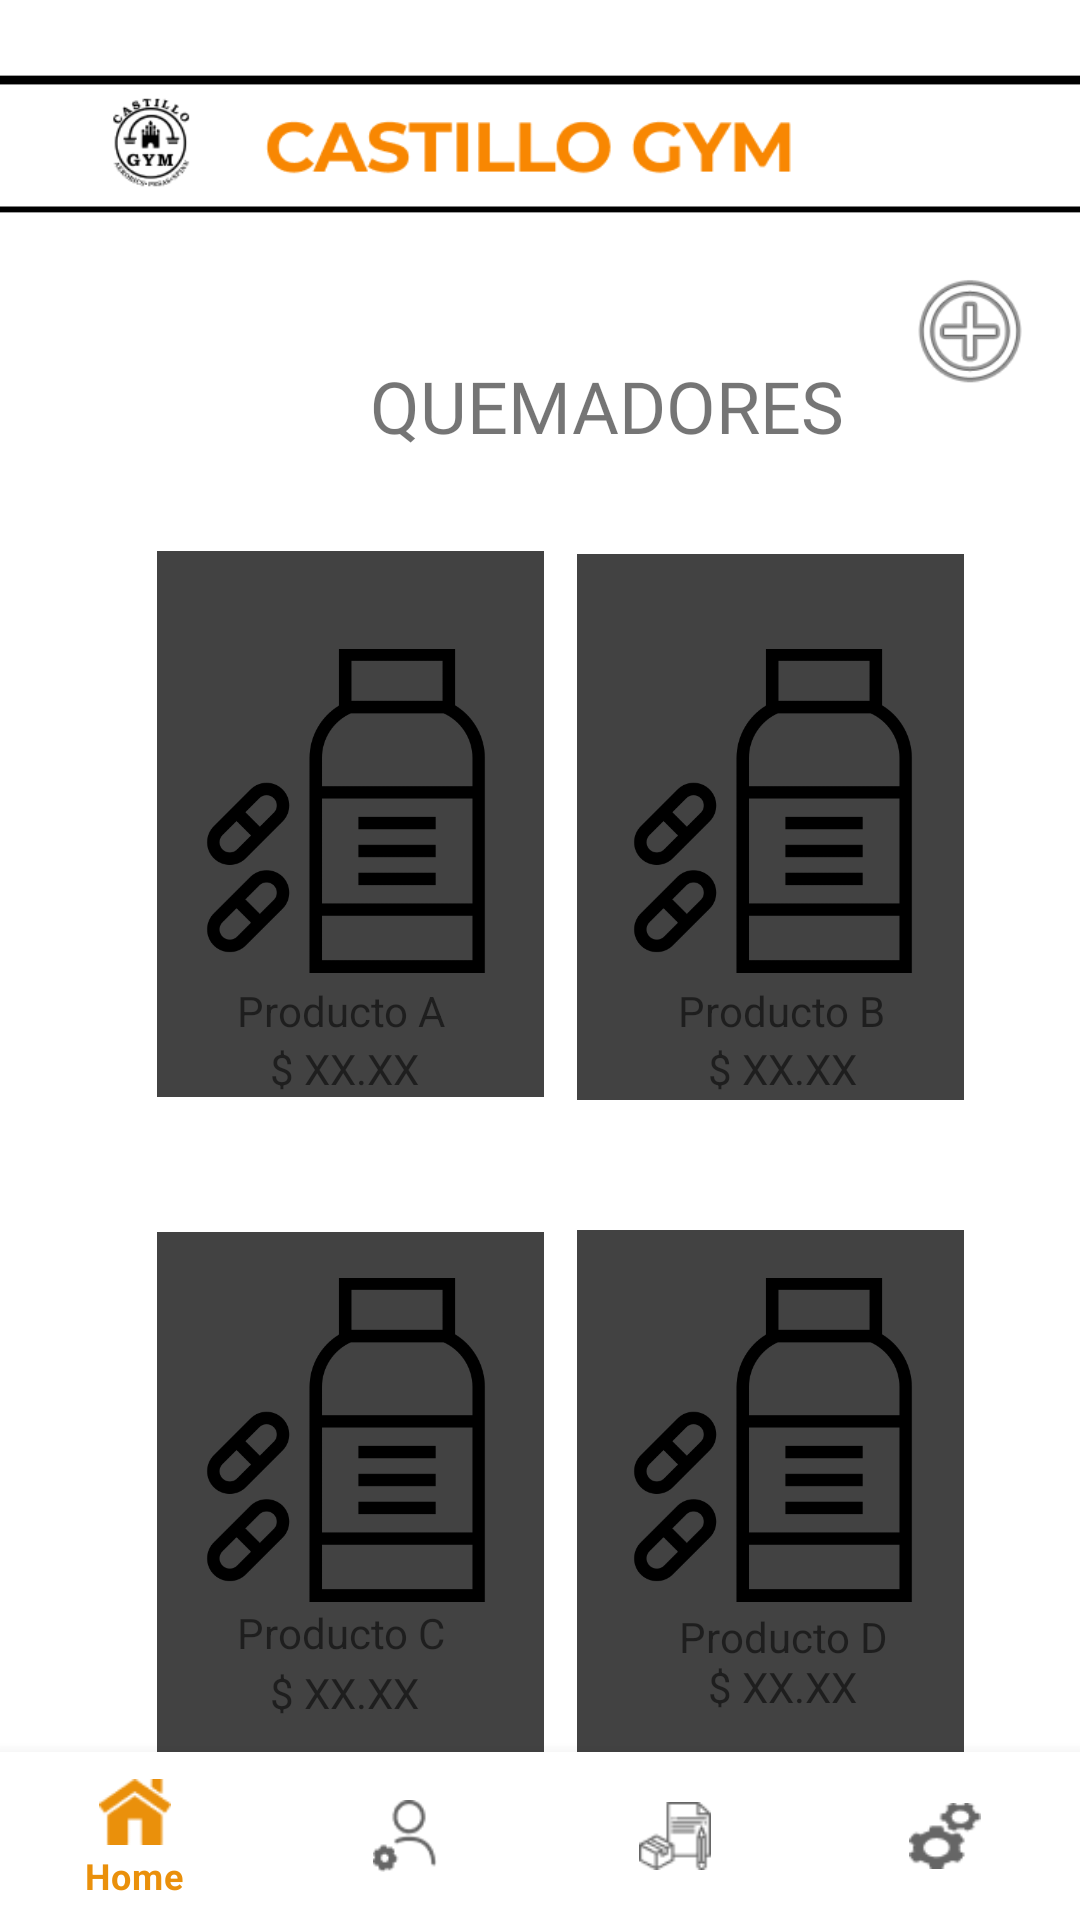

Icon click points for this 1080px×1920px phone screenshot, format point (x, y):
add: point (970, 331)
bote pastillas: point (346, 811), point (773, 811), point (346, 1440), point (773, 1440)
